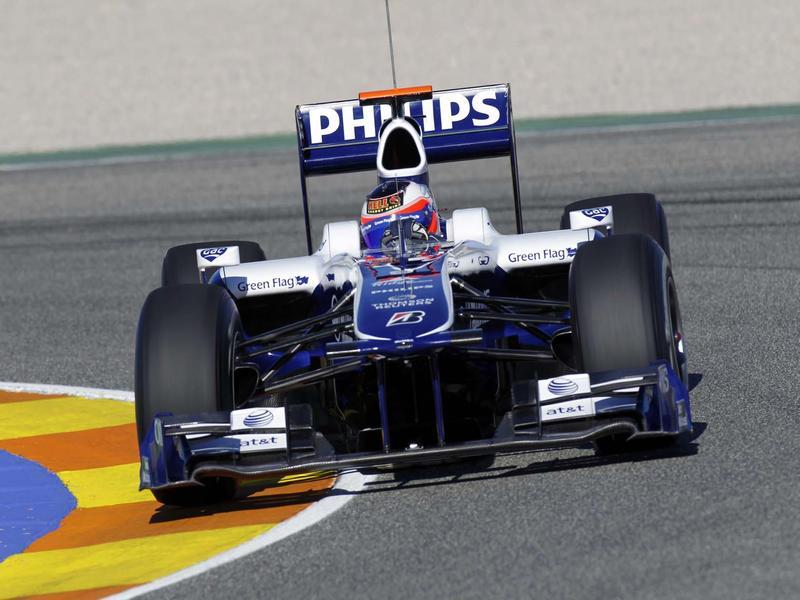f1: (136, 83, 717, 530)
